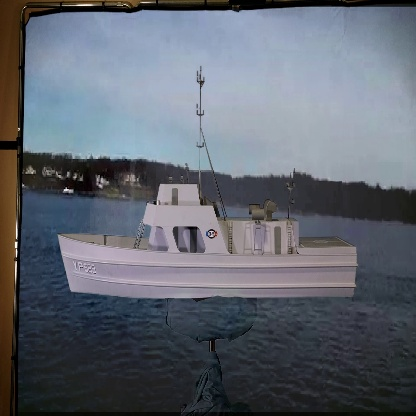YP689: (56, 54, 362, 301)
